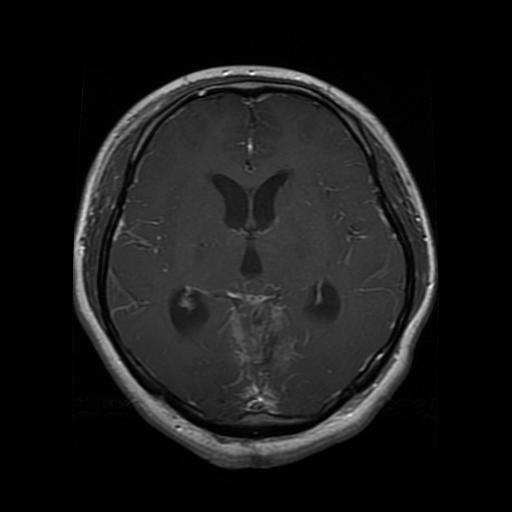Tumour-Glioma: (221, 286, 307, 379)
